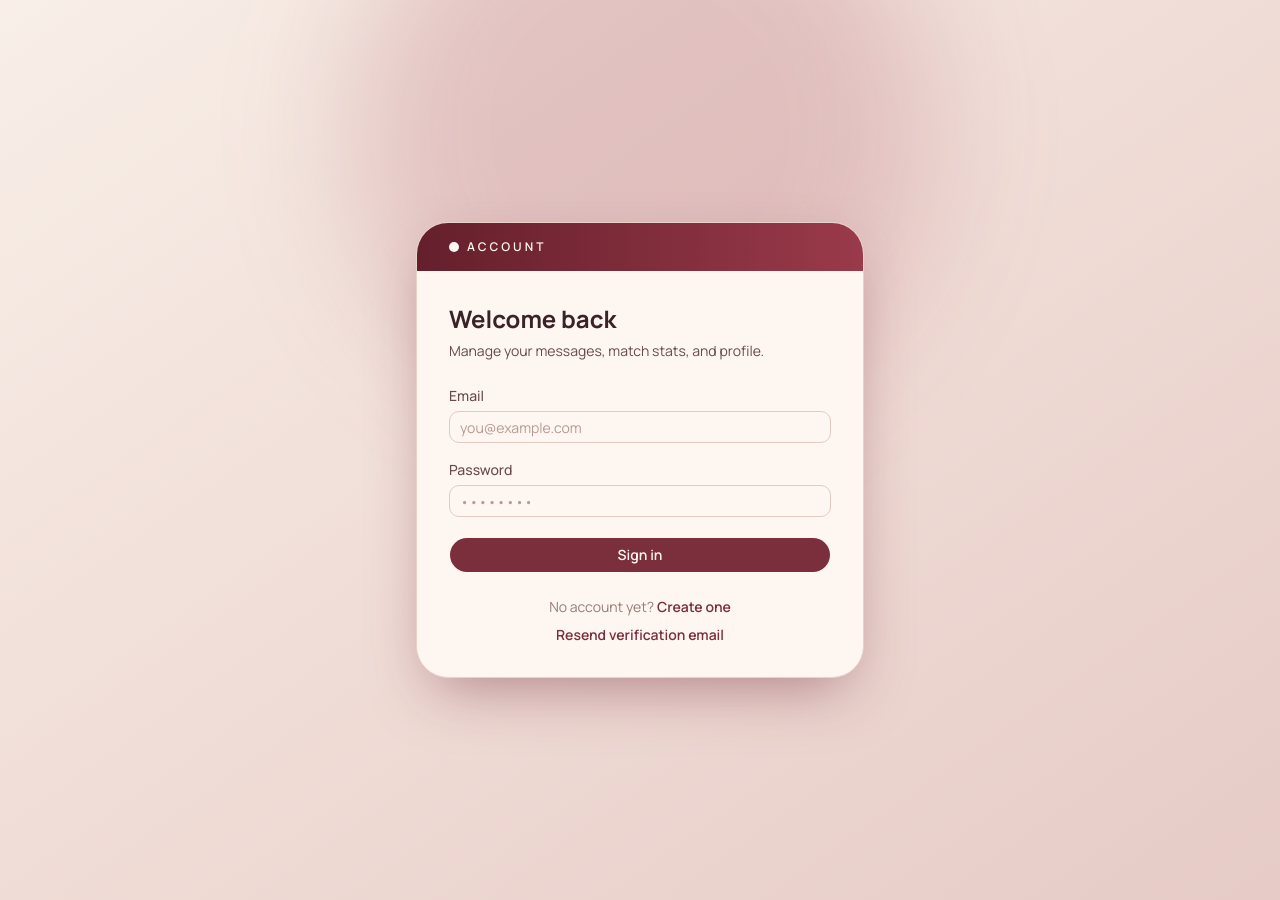
LoginPage › shows the shared invalid-credentials response
Type "  Diego@Example.com  " into the field labelled "Email" at (640, 427), box [449,411,831,443]
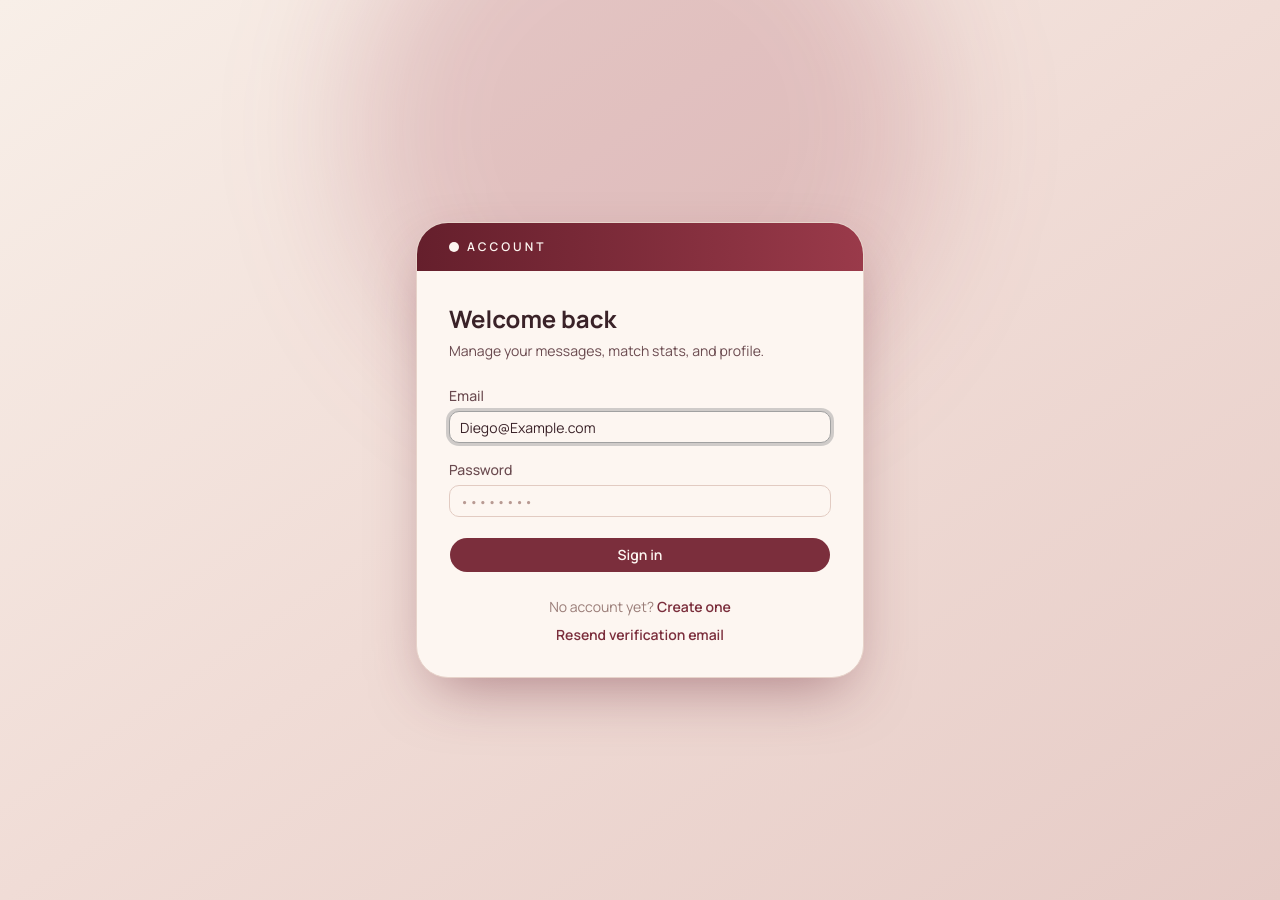
Type "password123" into the password field labelled "Password" at (640, 501), box [449,485,831,517]
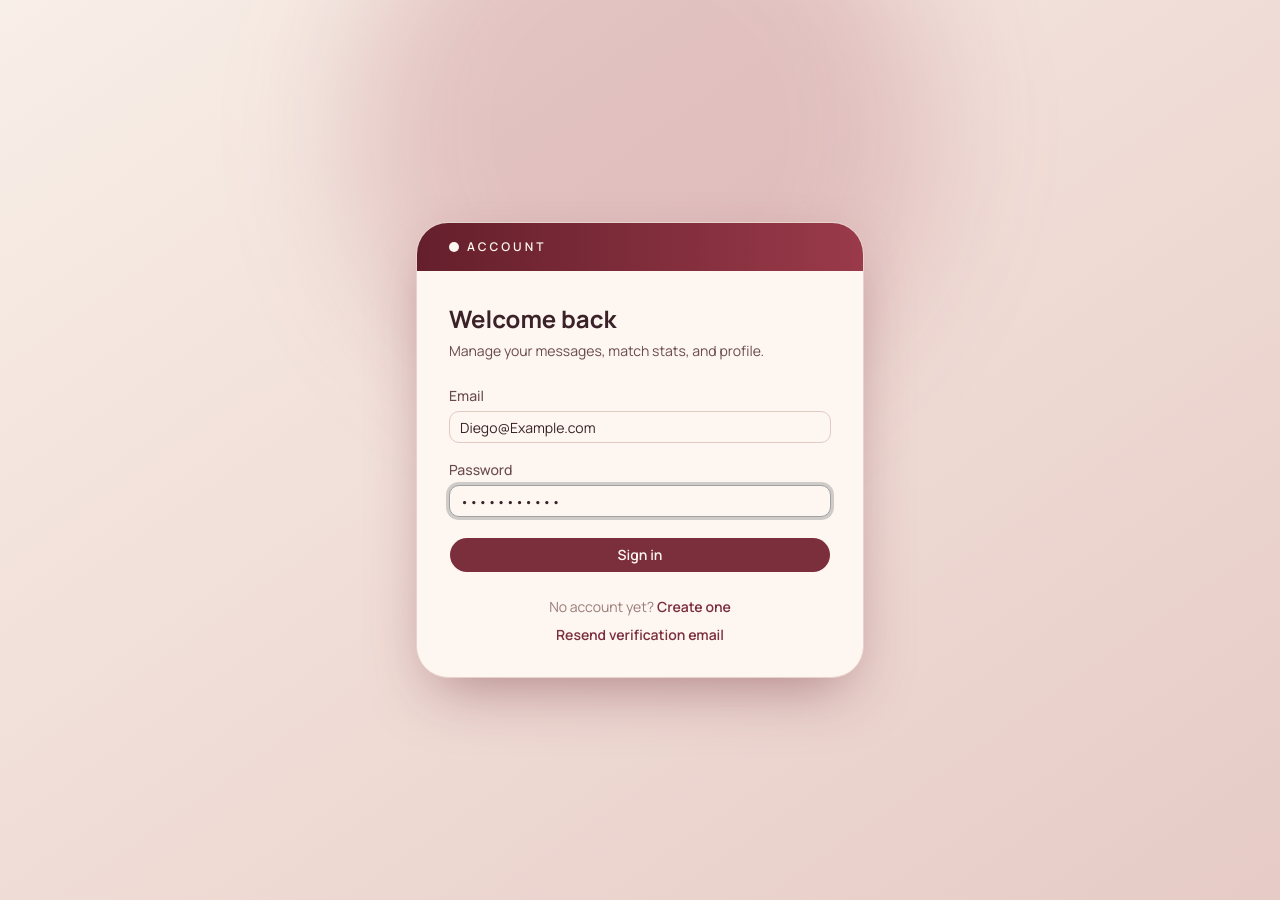
Click the button "Sign in" at (640, 555), box [449,537,831,573]
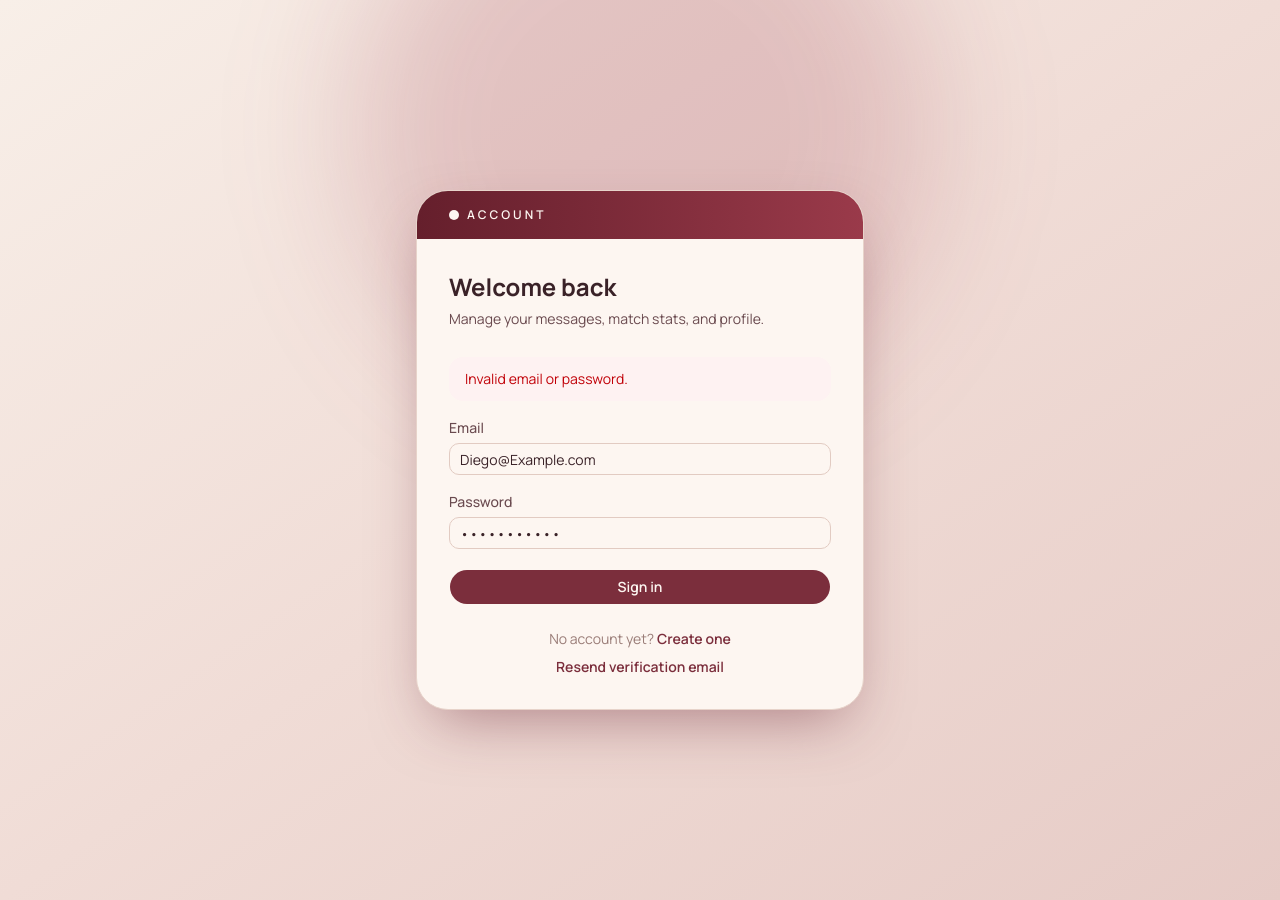
Now the text "Invalid email or password." is shown, box [449,357,831,401]
